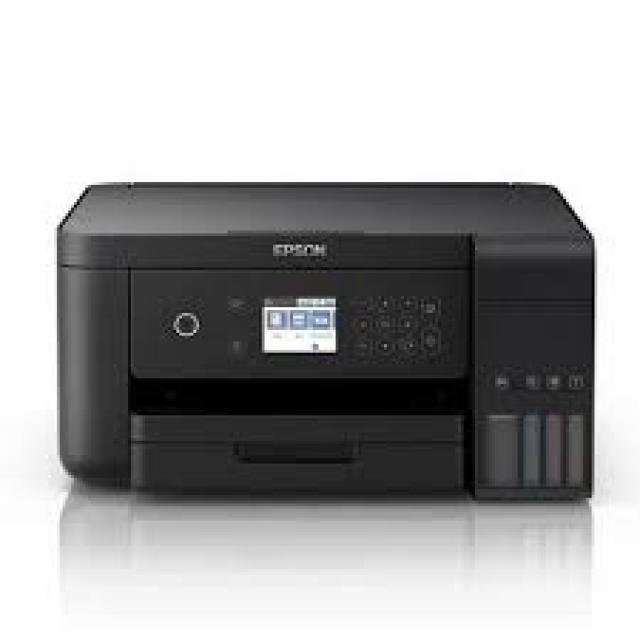printer: (54, 179, 595, 501)
